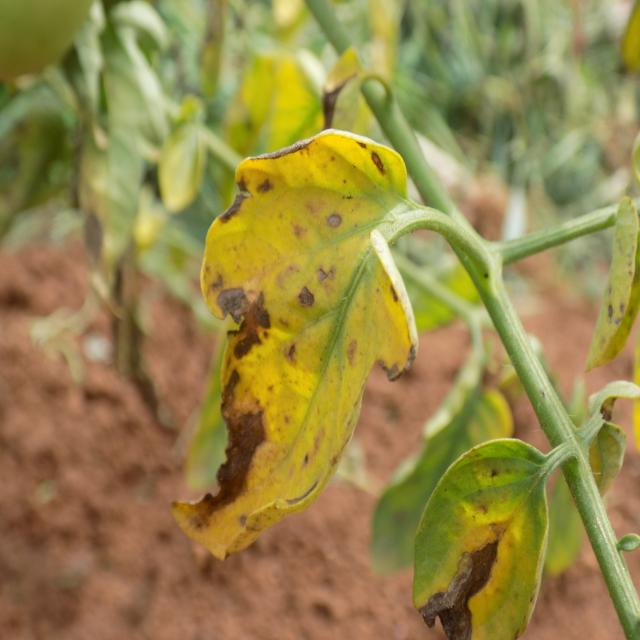tomato_early blight: (201, 131, 419, 556), (411, 435, 549, 640)
